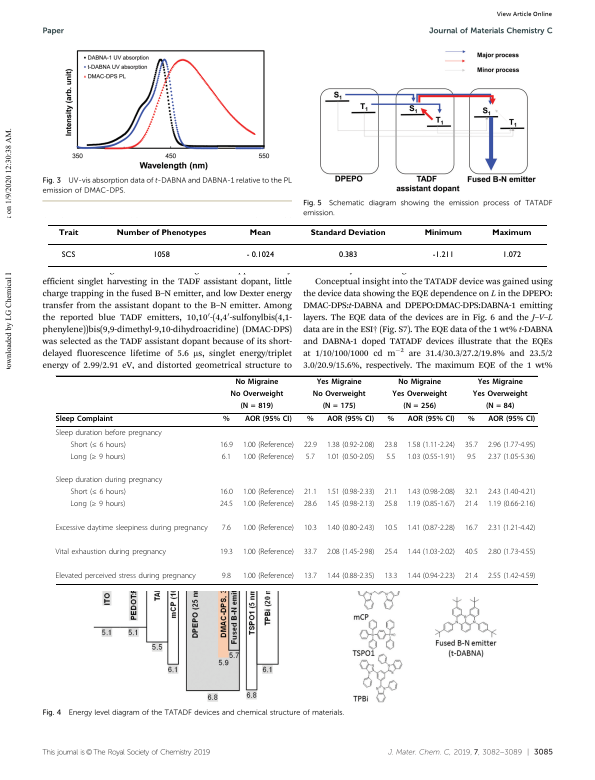borderless: (55, 374, 538, 584), (47, 223, 547, 266)
cell: (55, 524, 209, 533), (55, 572, 197, 581), (55, 428, 163, 438), (55, 476, 163, 486), (55, 548, 167, 557), (115, 228, 207, 237), (309, 228, 386, 237), (69, 440, 127, 450), (69, 488, 127, 498), (69, 452, 126, 462), (69, 500, 126, 510), (55, 415, 114, 424), (242, 440, 295, 450), (242, 452, 295, 462), (242, 488, 295, 498), (242, 500, 295, 510), (391, 390, 448, 399), (472, 390, 528, 399), (406, 440, 456, 450), (406, 452, 456, 462), (406, 488, 456, 498), (406, 500, 456, 510), (326, 440, 375, 450), (487, 440, 536, 450), (326, 452, 375, 462), (487, 452, 536, 462), (326, 488, 375, 498), (487, 488, 536, 498), (326, 500, 375, 510), (487, 500, 536, 510), (230, 390, 284, 399), (312, 390, 366, 399), (242, 524, 295, 533), (242, 548, 295, 557), (242, 572, 295, 581), (406, 524, 456, 533), (406, 548, 456, 557), (406, 572, 456, 581), (244, 415, 293, 424), (326, 415, 375, 424), (487, 415, 536, 424), (326, 524, 375, 533), (487, 524, 536, 533), (326, 548, 375, 557), (487, 548, 536, 557), (326, 572, 375, 581), (487, 572, 536, 581), (407, 415, 455, 424), (316, 378, 363, 387), (477, 378, 524, 387), (234, 378, 279, 387), (397, 378, 442, 387), (491, 228, 532, 237), (423, 228, 462, 237), (239, 402, 274, 411), (402, 402, 437, 411), (322, 402, 356, 411), (485, 402, 515, 411), (245, 250, 275, 258), (248, 228, 271, 237), (57, 228, 79, 237), (431, 250, 454, 258), (501, 250, 522, 258), (338, 250, 358, 258), (219, 440, 234, 450), (303, 440, 318, 450), (383, 440, 398, 450), (464, 440, 479, 450), (219, 488, 234, 498), (303, 488, 318, 498), (383, 488, 398, 498), (464, 488, 479, 498), (219, 500, 234, 510), (303, 500, 318, 510), (383, 500, 398, 510), (464, 500, 479, 510), (152, 250, 170, 258), (303, 524, 318, 533), (383, 524, 398, 533), (464, 524, 479, 533), (219, 548, 234, 557), (303, 548, 318, 557), (383, 548, 398, 557), (464, 548, 479, 557), (303, 572, 318, 581), (383, 572, 398, 581), (464, 572, 479, 581), (60, 250, 76, 258), (221, 452, 232, 462), (305, 452, 316, 462), (385, 452, 396, 462), (466, 452, 477, 462), (221, 524, 232, 533), (221, 572, 232, 581), (222, 415, 231, 424), (306, 415, 315, 424), (386, 415, 395, 424), (467, 415, 476, 424)
